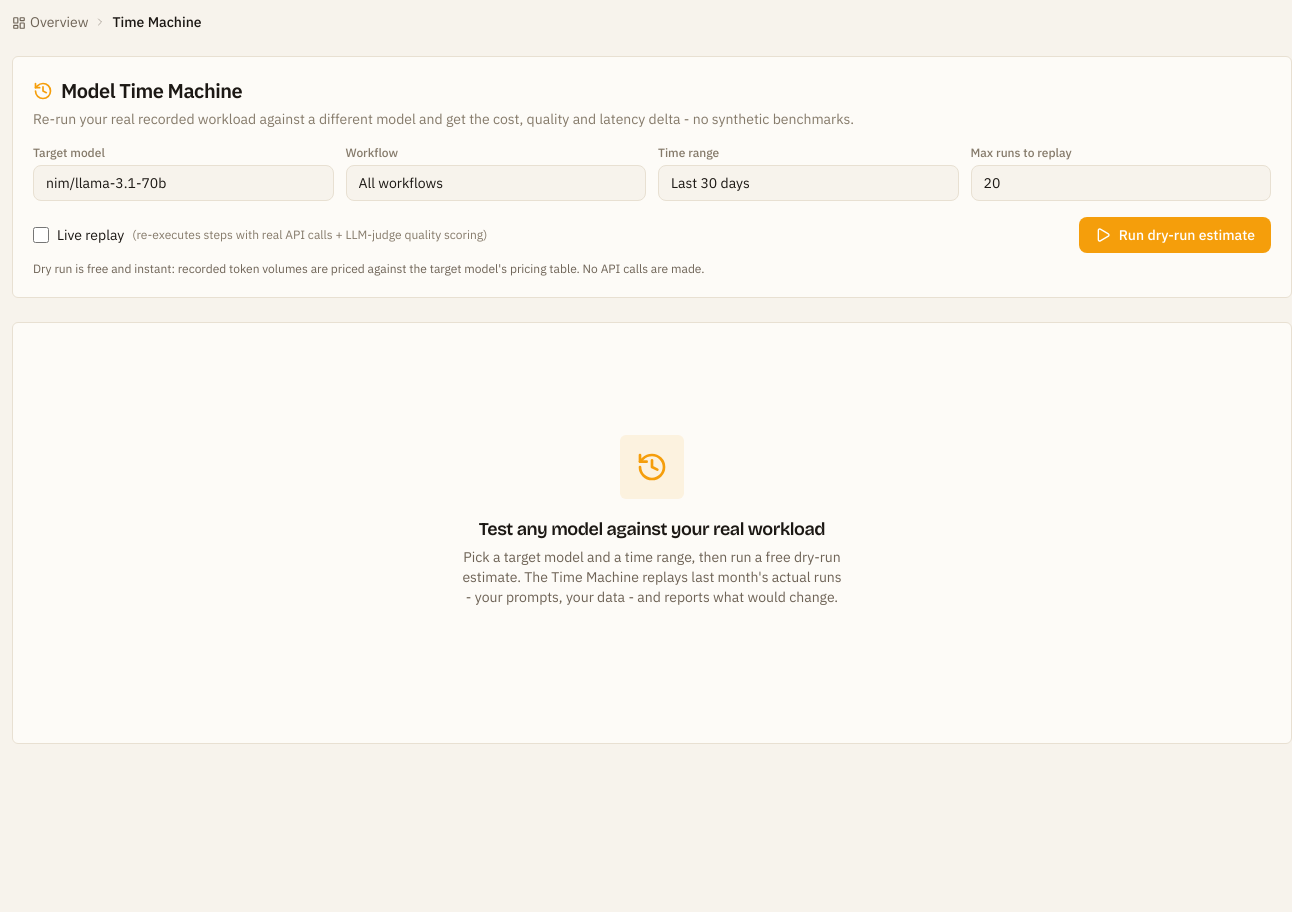
it: TimeMachinePage › surfaces a budget refusal error from the API
Step 1. Click the button "Run dry-run estimate" → (1175, 235), box left=1079, top=217, right=1271, bottom=253
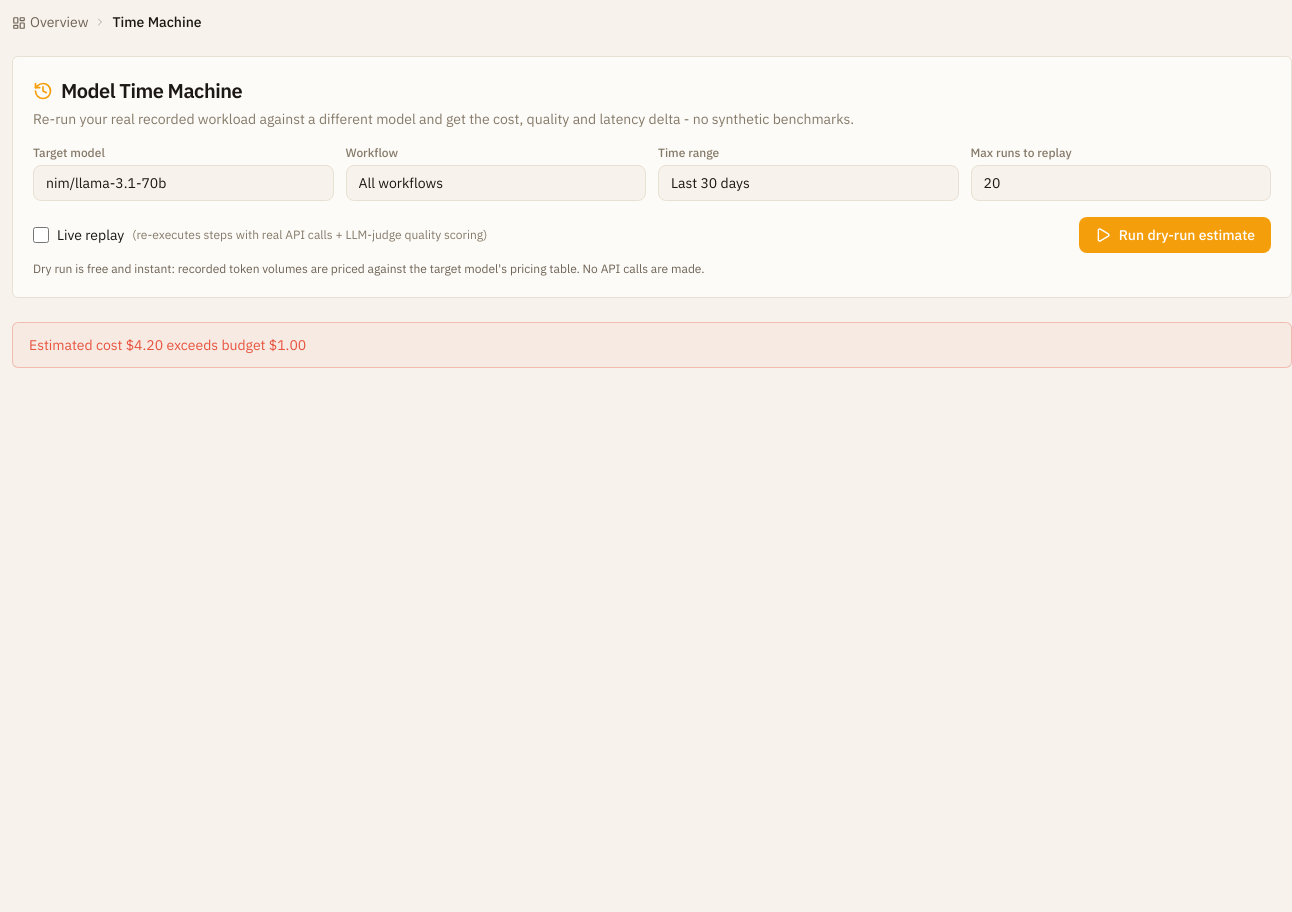
Now the text "Estimated cost $4.20 exceeds budget $1.00" is shown, box left=12, top=322, right=1291, bottom=368
